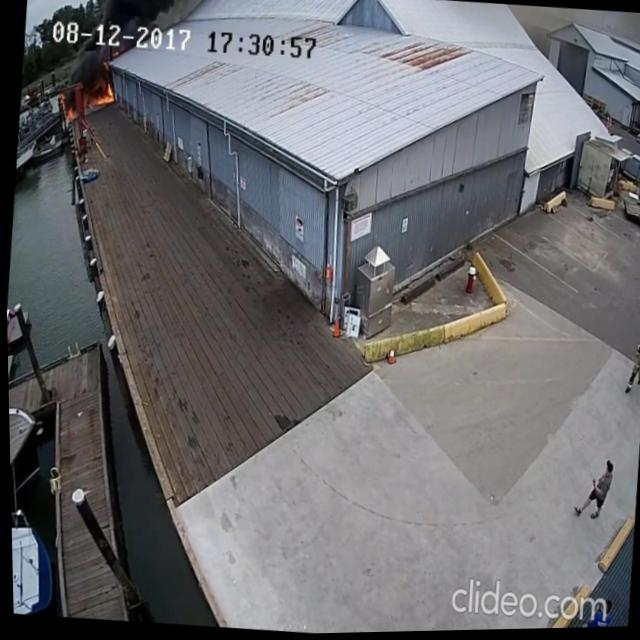fire: (88, 81, 116, 108), (64, 104, 75, 121)
